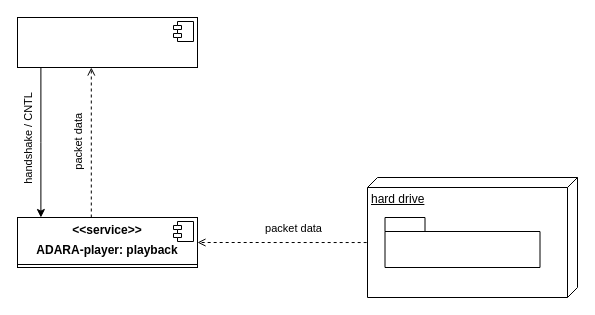
This 595x315 diagram has some shape labels left out. The shapes that lost their labels are listed below. From the top down, each one's centre as x and y in pixels, then its label:
(107,42): <<client>> Client application
(462,242): /<base-dir>/<session#>
